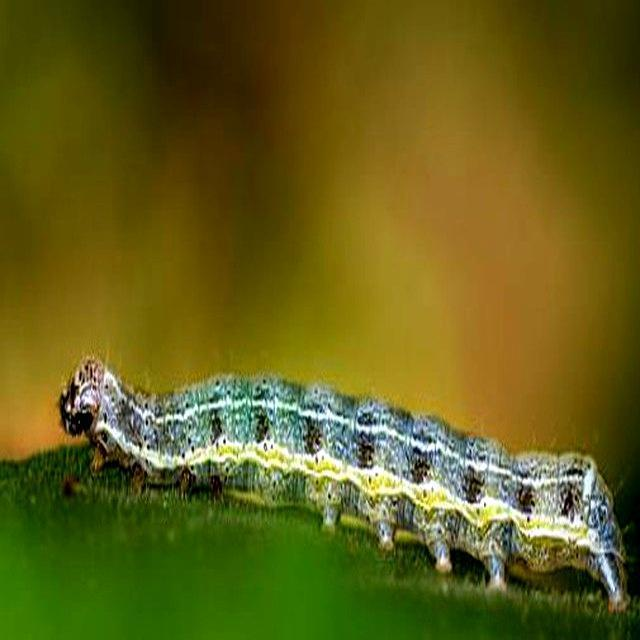gusano_cogollero: (56, 356, 626, 604)
